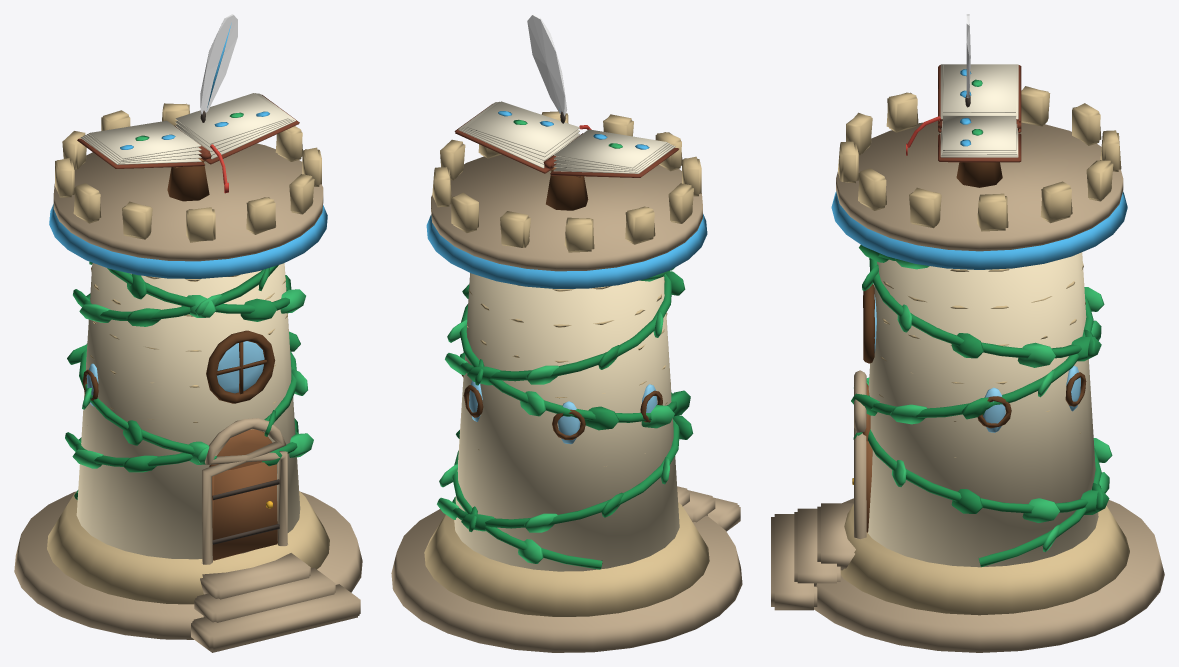
Rendered from torre-letras.glb.
3 views of the same model, side by side, from view 1: azimuth 30°, elevation 25°; view 2: azimuth 150°, elevation 25°; view 3: azimuth 270°, elevation 25° (orthographic). The views are drawn at different scales.
Parts seen in each view (by area): view 1: TorreLetras; view 2: TorreLetras; view 3: TorreLetras.
Part boxes in pixels (bbox=[...]): TorreLetras: bbox=[14, 14, 362, 652]; TorreLetras: bbox=[391, 14, 742, 652]; TorreLetras: bbox=[771, 14, 1164, 652].
Bounding box in the file's own units: 3.2 × 5.52 × 3.4.
